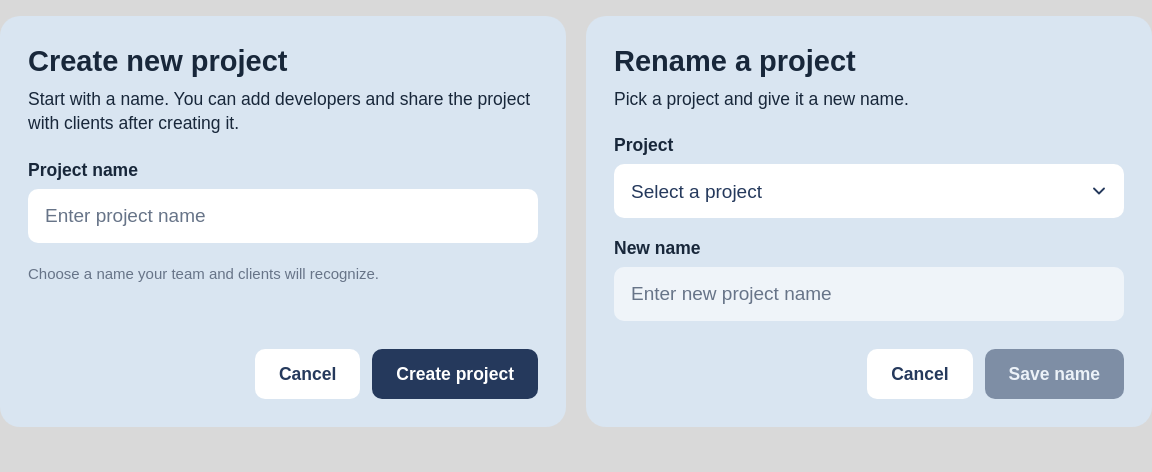
Scenario: Creating projects › clears creation errors when Cancel is clicked
The width and height of the screenshot is (1152, 472).
In the field labelled "Project name": (283, 216) top-left (28, 189), bottom-right (538, 243), type "New Project"
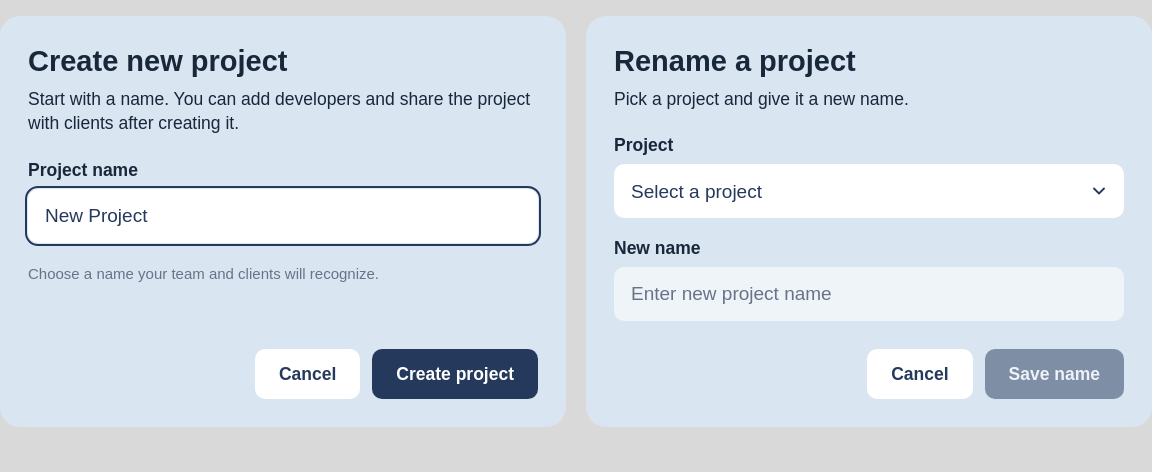
Click the button "Create project": click(455, 374) top-left (372, 349), bottom-right (538, 399)
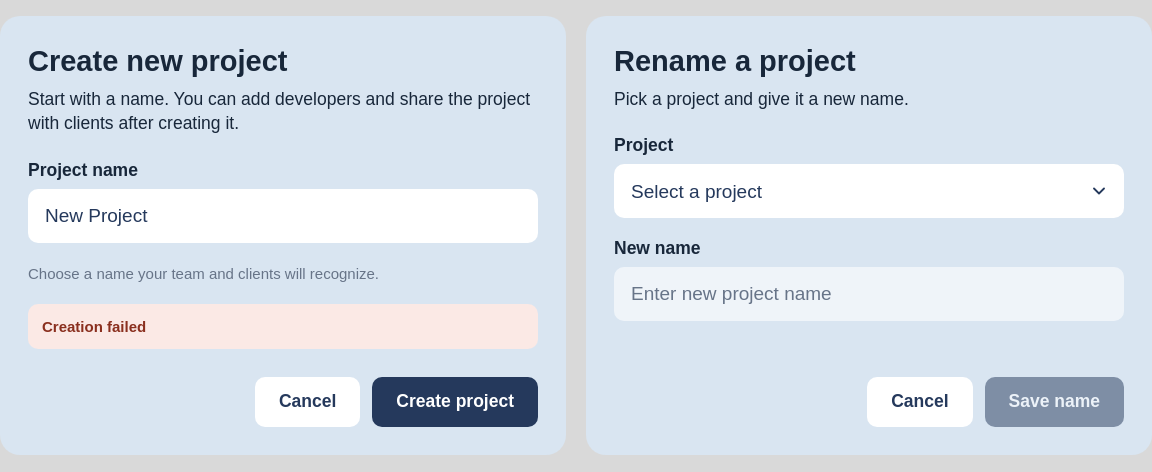
Expected: the message "Creation failed" is shown, top-left (28, 304), bottom-right (538, 349)
Click the button "Cancel" below "Creation failed": click(308, 402) top-left (255, 377), bottom-right (360, 427)
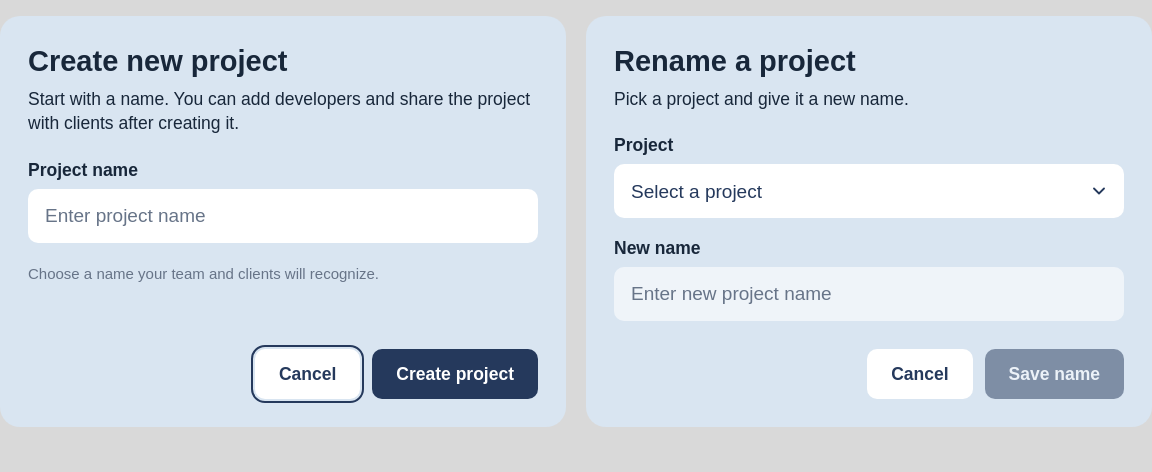
Expected: the message "Creation failed" is gone
